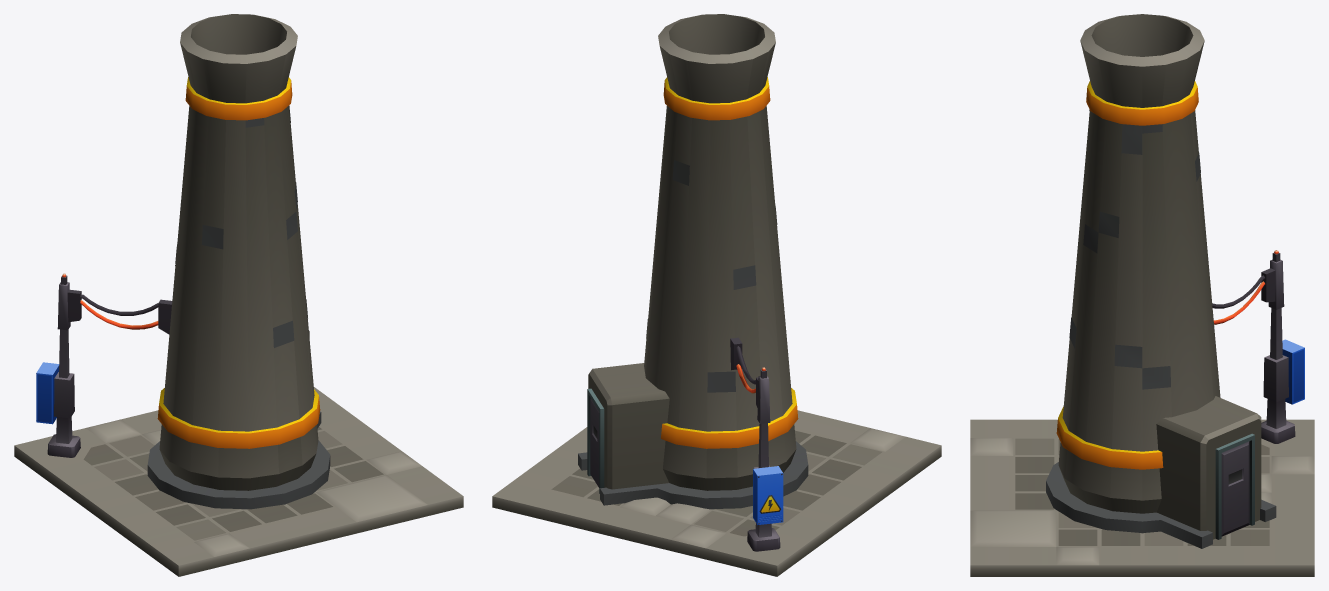
Rendered from Chimney_1B.fbx.
3 renders of one model, left to right at view 1: azimuth 30°, elevation 25°; view 2: azimuth 150°, elevation 25°; view 3: azimuth 270°, elevation 25°, orthographic. The views are drawn at different scales.
Visible parts, largest first — view 1: Chimney_1B; view 2: Chimney_1B; view 3: Chimney_1B.
Part boxes in pixels (left/top/right/bottom): Chimney_1B: left=14, top=14, right=463, bottom=576; Chimney_1B: left=492, top=14, right=941, bottom=576; Chimney_1B: left=970, top=14, right=1314, bottom=576.
Size of the model in its own units: 8 by 12.01 by 8.
